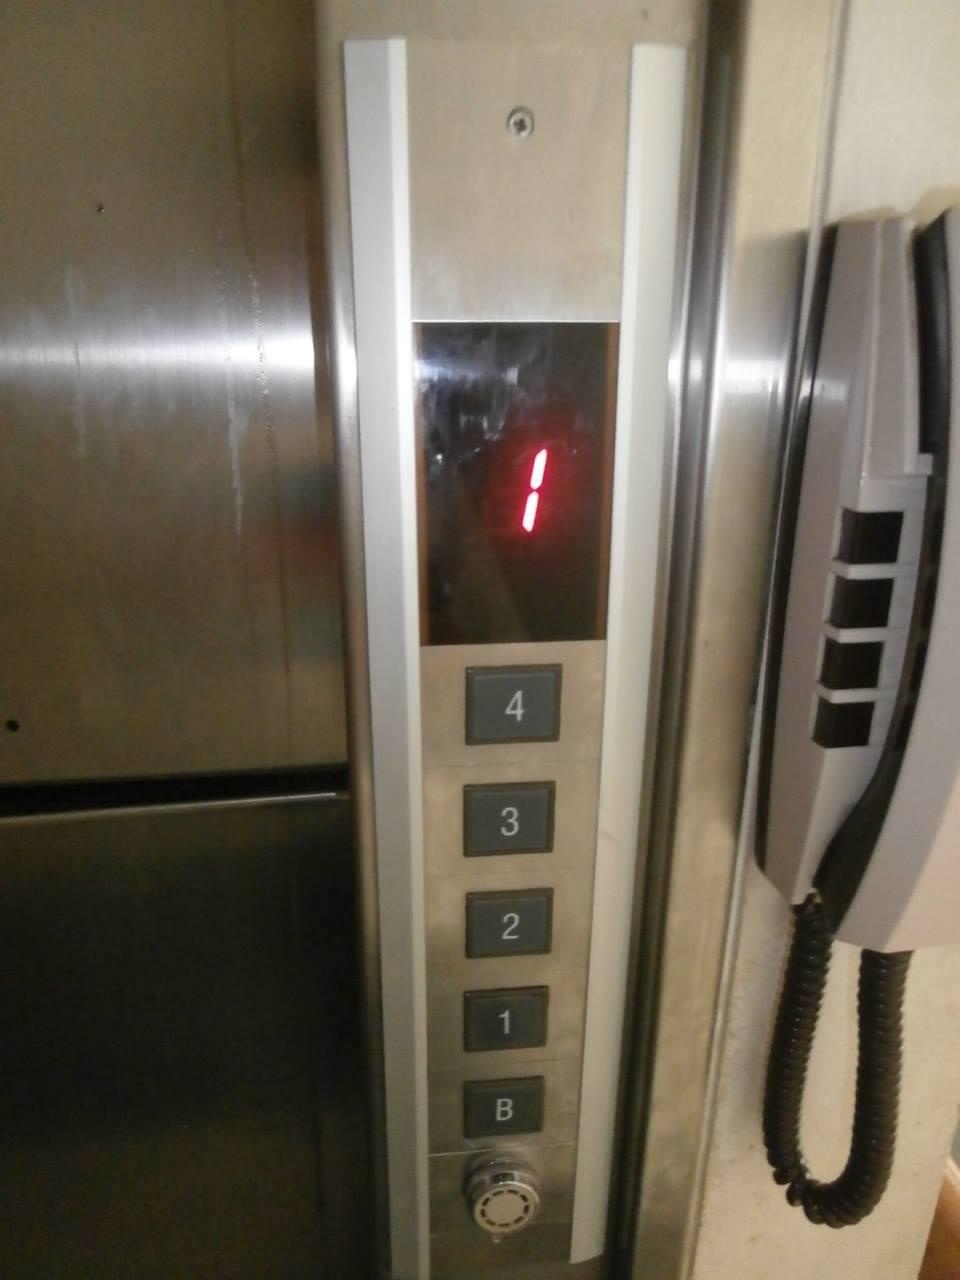1: (458, 980, 553, 1057)
2: (459, 881, 556, 962)
3: (456, 775, 559, 861)
4: (457, 658, 572, 748)
B: (457, 1072, 550, 1141)
led: (407, 315, 629, 649)
speaker: (460, 1161, 552, 1240)
